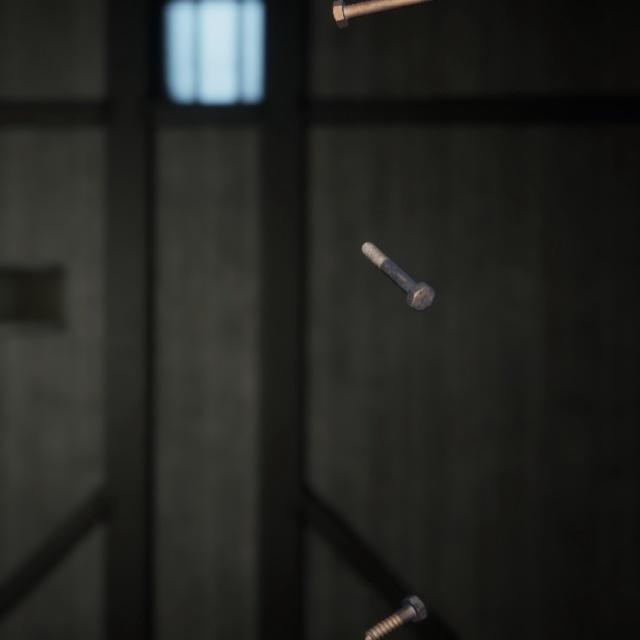bolt: (356, 221, 439, 300), (360, 568, 431, 624), (327, 0, 416, 27)
